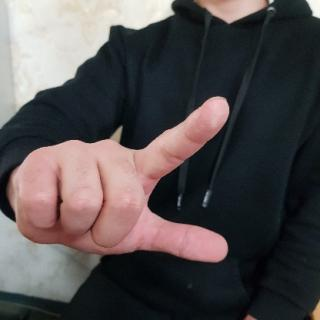LAAM: (8, 92, 250, 266)
